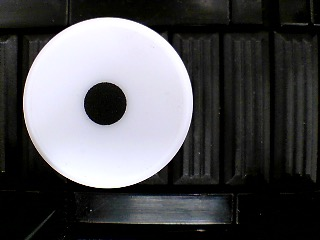BOHO: (22, 16, 194, 189)
